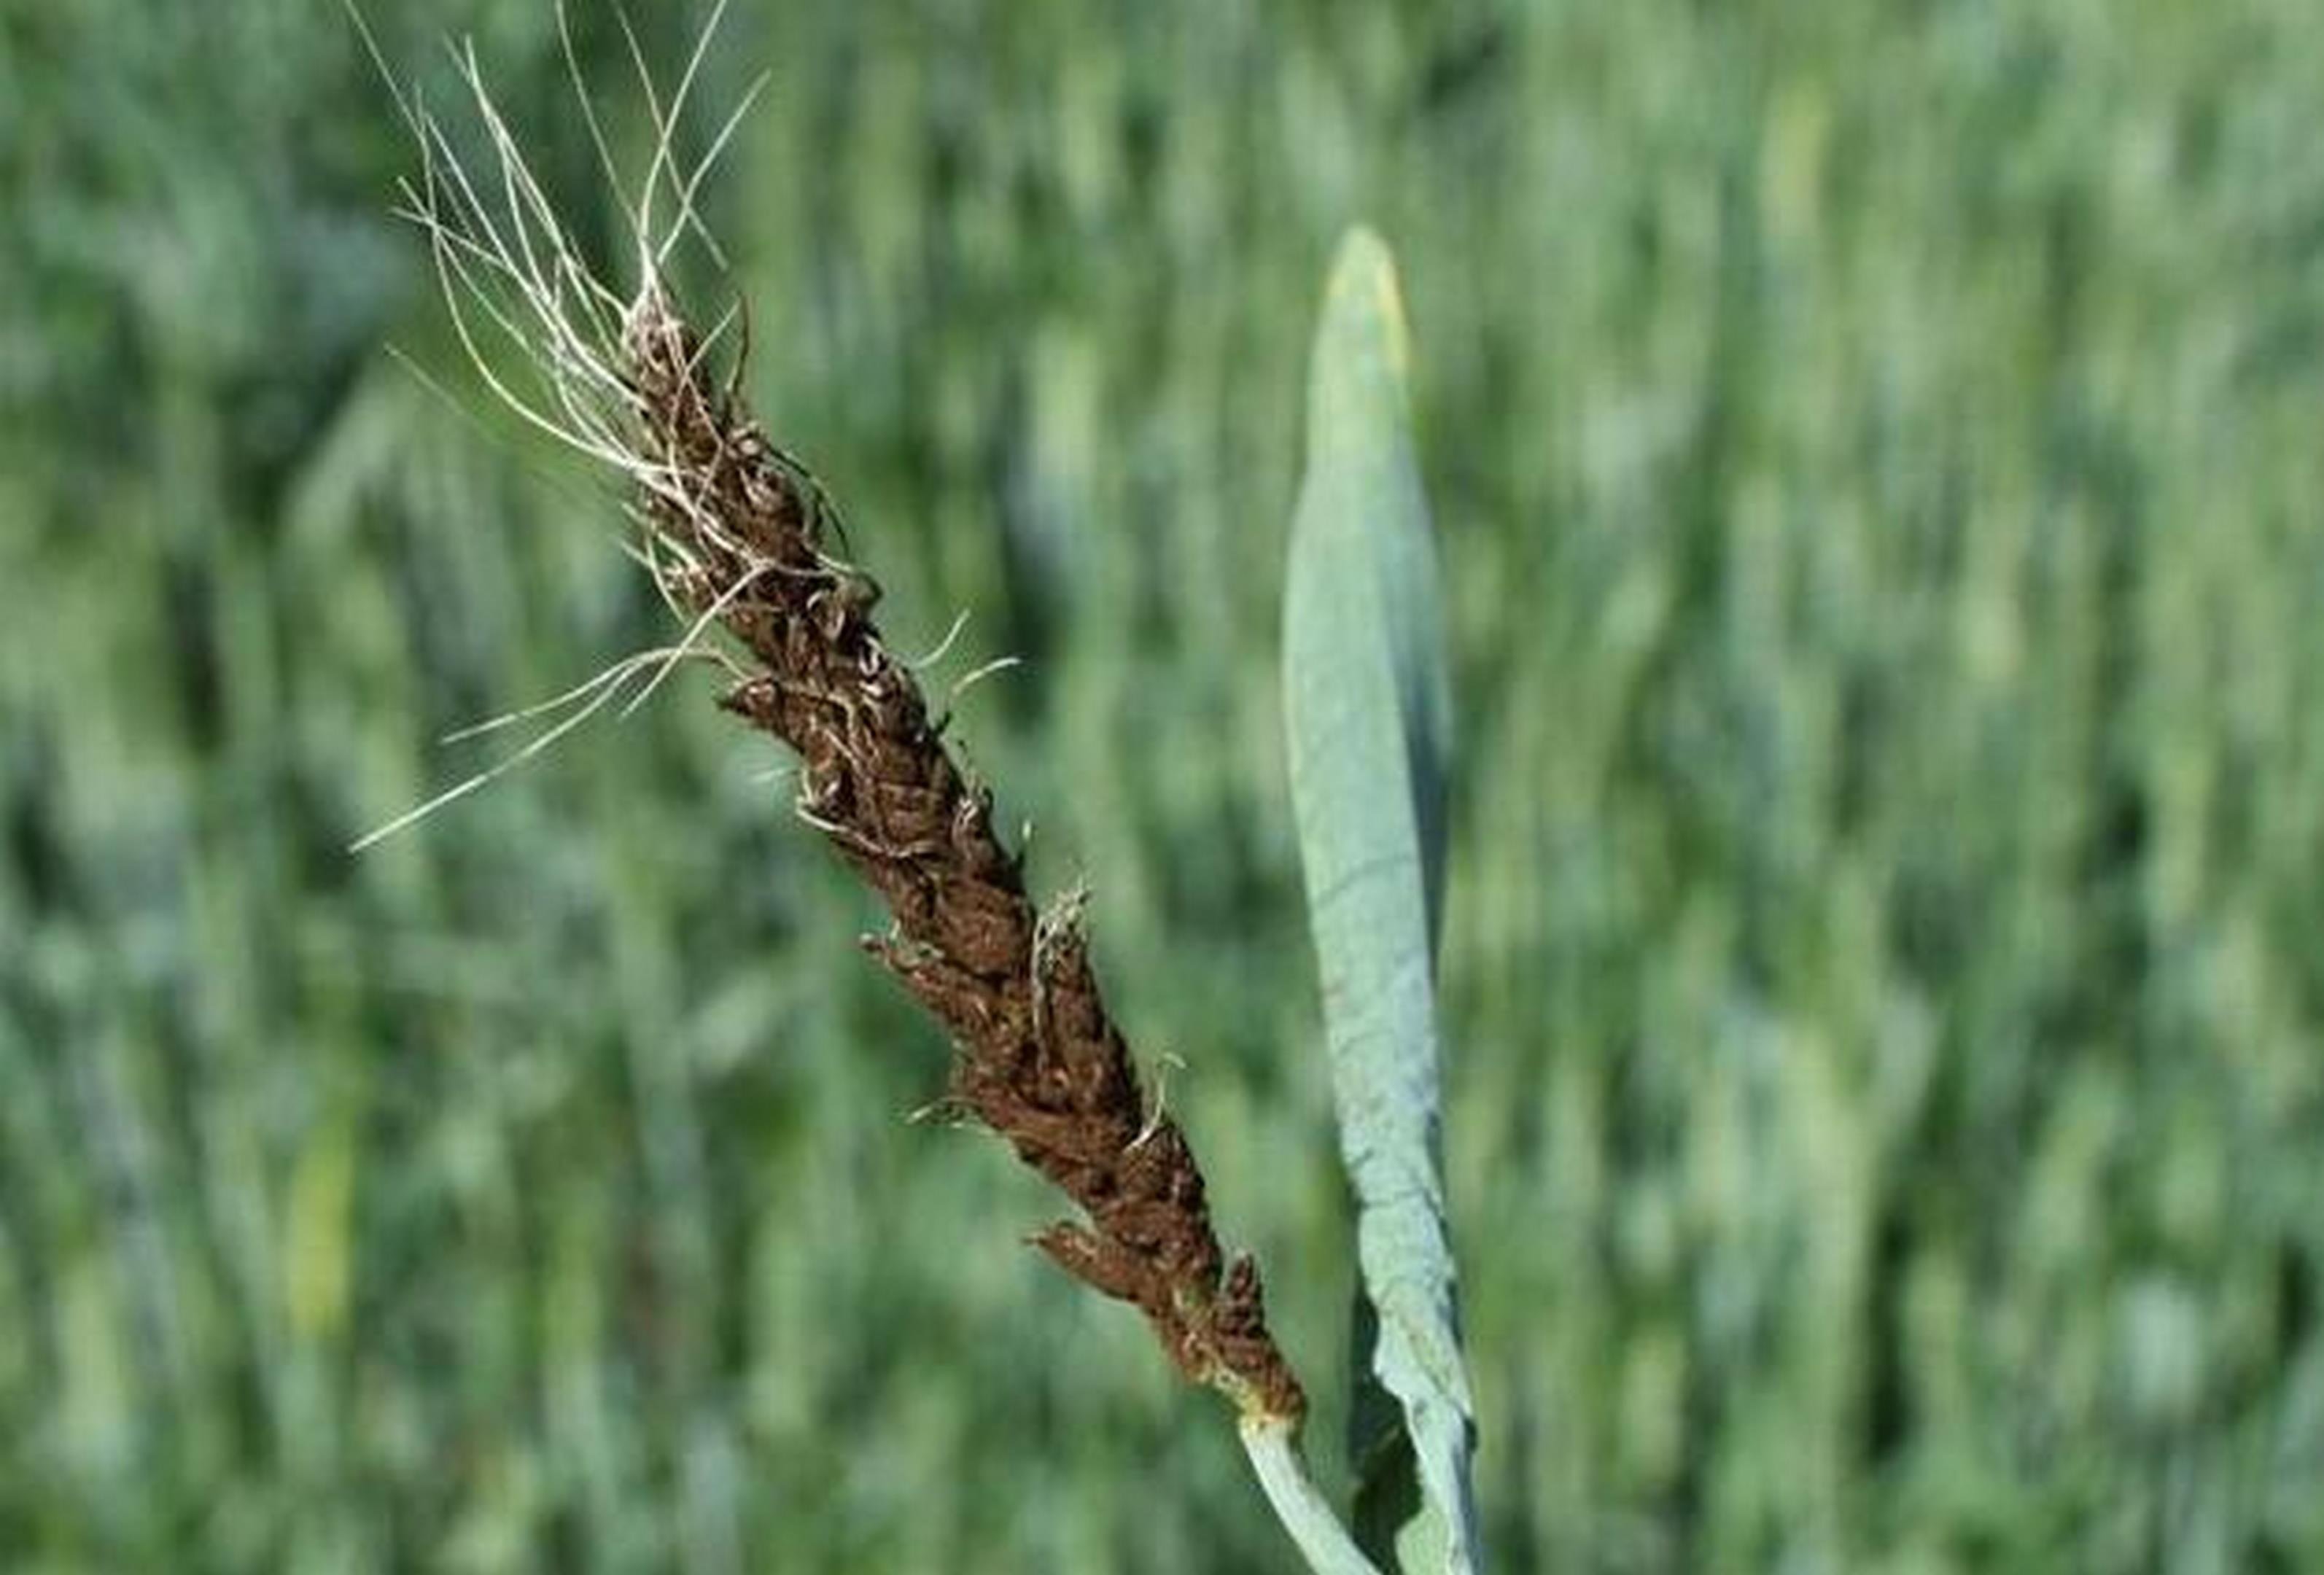Wheat Loose Smut: (561, 285, 1317, 1434)
